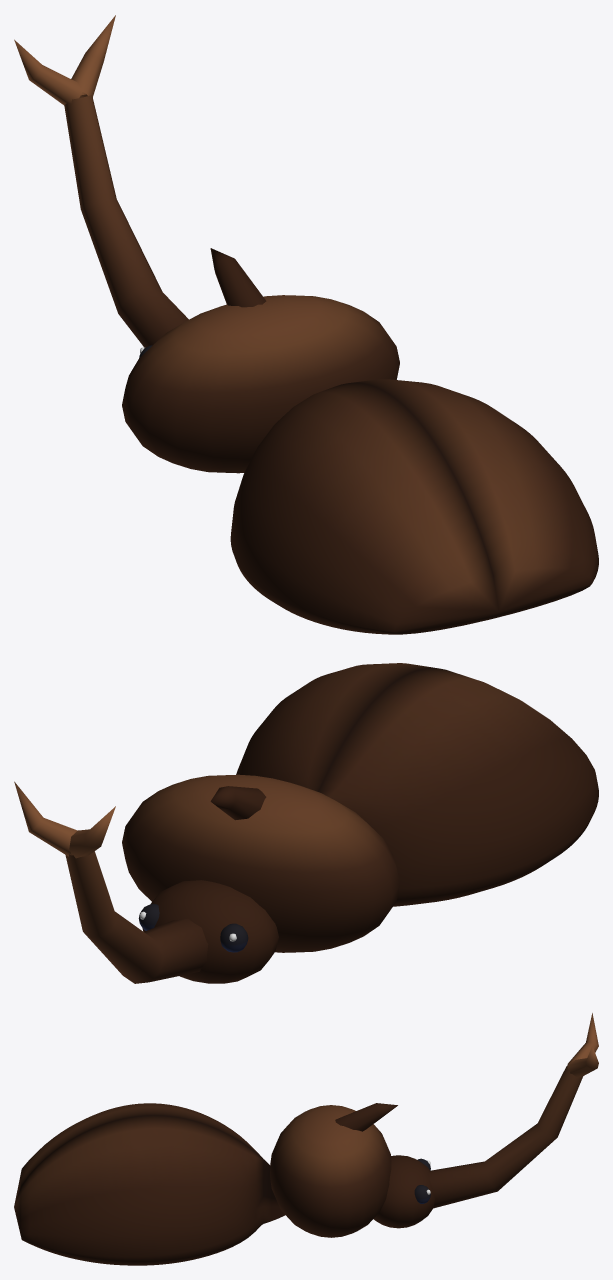
Rendered from Beetle.fbx.
3 views of the same model, one above another, from view 1: azimuth 30°, elevation 25°; view 2: azimuth 150°, elevation 25°; view 3: azimuth 270°, elevation 25° (orthographic). The views are drawn at different scales.
Visible parts, largest first — view 1: Beetle; view 2: Beetle; view 3: Beetle.
Part boxes in pixels (bbox=[...]): Beetle: bbox=[14, 15, 598, 634]; Beetle: bbox=[14, 663, 598, 983]; Beetle: bbox=[14, 1013, 598, 1265].
Bounding box in the file's own units: 0.8398 × 0.826 × 2.08.
